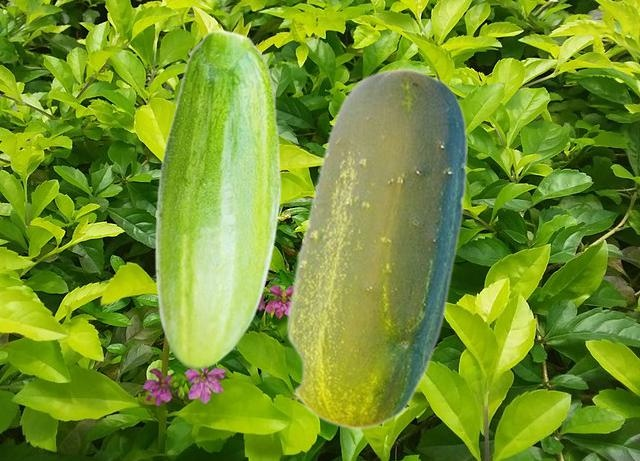cucumber: (285, 67, 466, 429), (154, 29, 280, 368)
